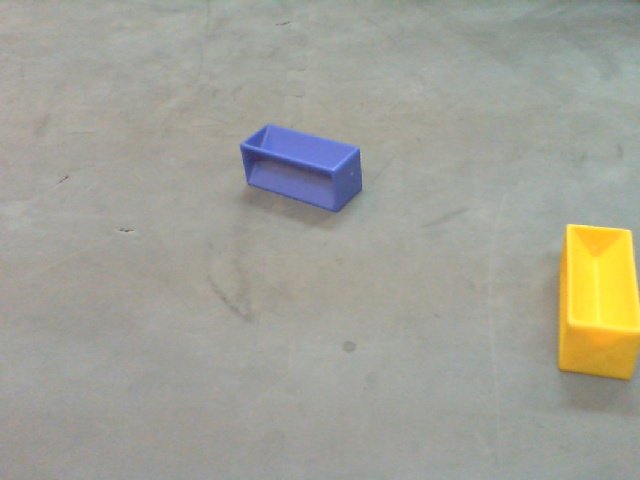BlueSample: (235, 121, 365, 212)
YellowSample: (553, 219, 639, 389)
